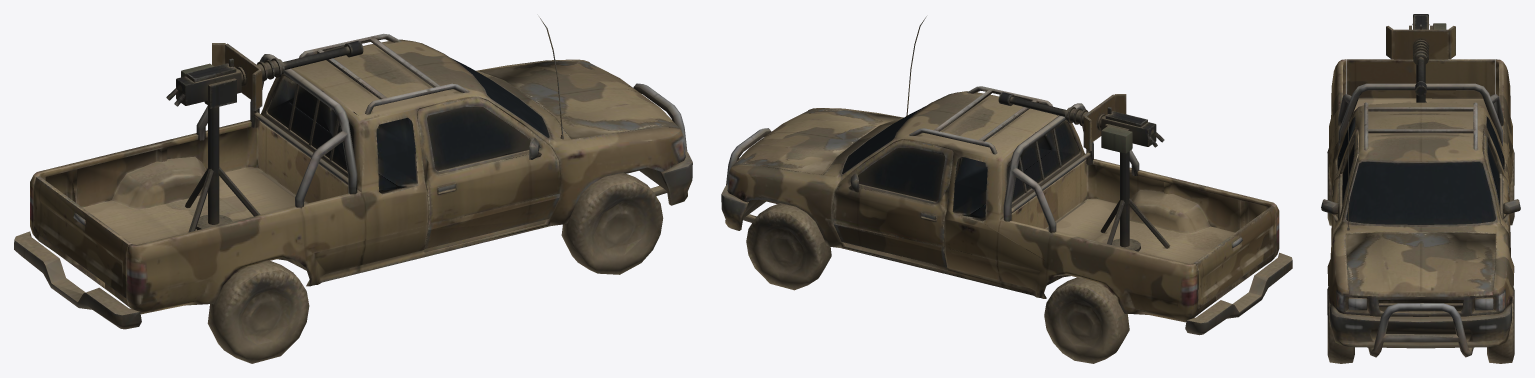
Rendered from fh_battle_e_convoy_technical.glb.
3 views of the same model, side by side, from view 1: azimuth 30°, elevation 25°; view 2: azimuth 150°, elevation 25°; view 3: azimuth 270°, elevation 25° (orthographic). The views are drawn at different scales.
Visible parts, largest first — view 1: convoy_technical, wheel_1r, wheel_fr, turret; view 2: convoy_technical, wheel_1l, wheel_fl, turret; view 3: convoy_technical, turret, wheel_fl, wheel_fr, wheel_1l, wheel_1r.
Boxes of the visible parts, x1,y1,x2,y2 form: convoy_technical: (14,17,692,329); wheel_1r: (207,261,309,363); wheel_fr: (561,172,663,274); turret: (166,40,363,110); convoy_technical: (721,16,1292,335); wheel_1l: (1044,277,1129,363); wheel_fl: (746,203,831,290); turret: (998,92,1164,153); convoy_technical: (1321,59,1520,357); turret: (1386,14,1455,96); wheel_fl: (1487,288,1514,363); wheel_fr: (1327,287,1354,363); wheel_1l: (1510,148,1514,225); wheel_1r: (1327,148,1331,225).
Bounding box in the file's own units: 1 × 0.4349 × 0.3618.
Materials: 2 (2 with a texture image).
